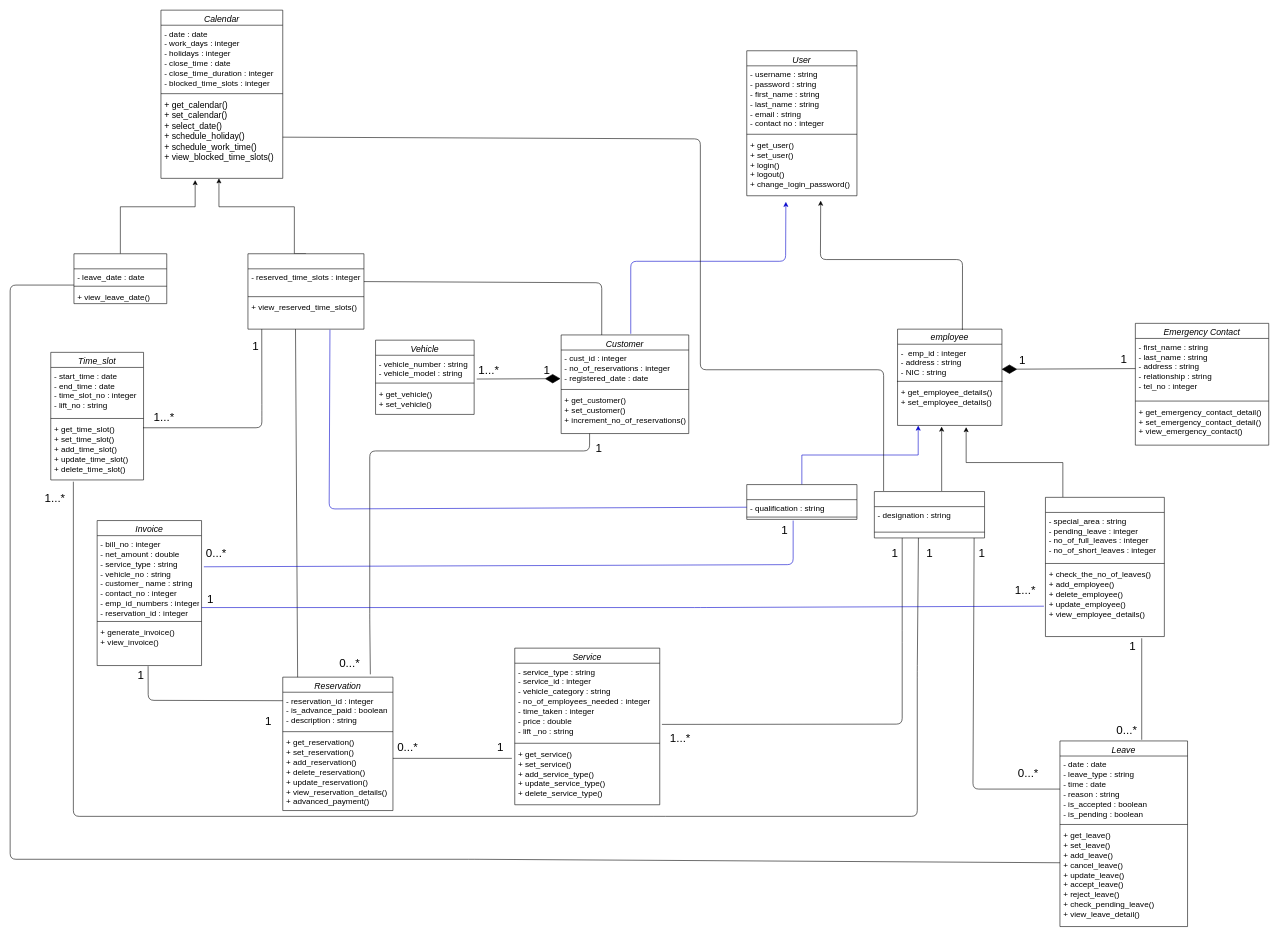
This 1279x938 diagram has some shape labels left out. Here are the shapes that lost their labels. From the top down, the box of each, then its label:
(73, 253, 167, 304): Employee Calendar
(247, 253, 364, 329): Reservation Calendar
(746, 484, 857, 519): Receptionist
(874, 491, 985, 538): Manager
(1045, 497, 1164, 637): Service Emoloyee
